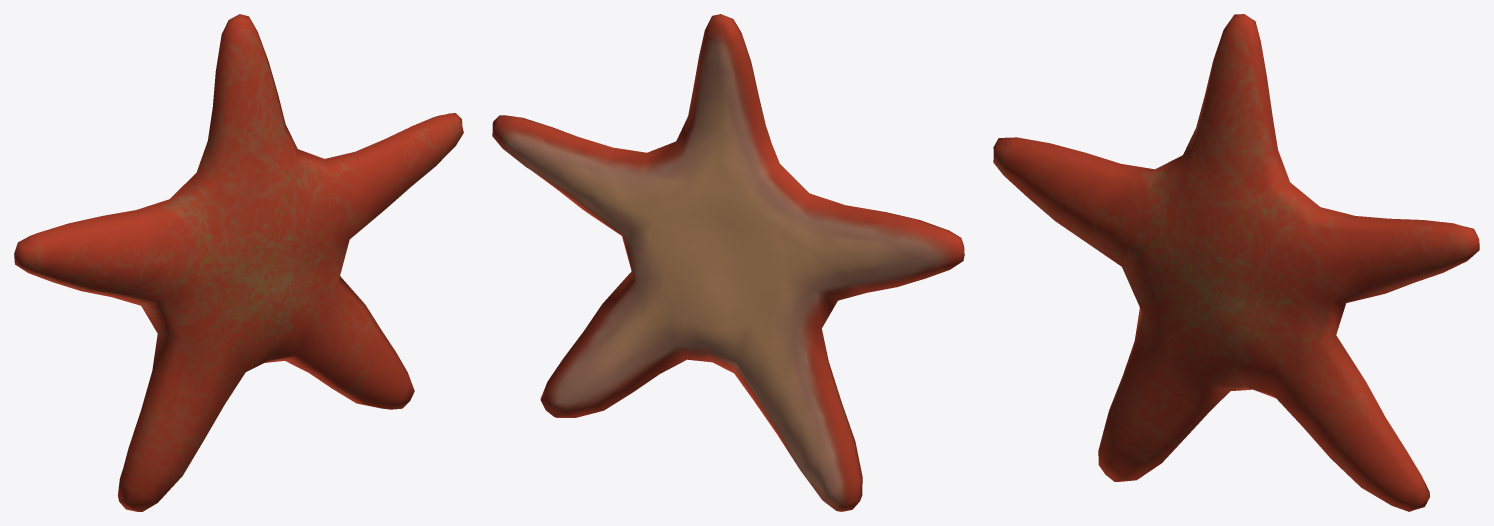
The model's file is lowPolyStarfish_edit_for_FBX.fbx.
3 renders of one model, left to right at view 1: azimuth 30°, elevation 25°; view 2: azimuth 150°, elevation 25°; view 3: azimuth 330°, elevation 25°, orthographic. The views are drawn at different scales.
Visible parts, largest first — view 1: lowPolyStarfish; view 2: lowPolyStarfish; view 3: lowPolyStarfish.
Part boxes in pixels (bbox=[...]): lowPolyStarfish: bbox=[14, 14, 463, 511]; lowPolyStarfish: bbox=[492, 14, 964, 511]; lowPolyStarfish: bbox=[993, 14, 1479, 511].
Bounding box in the file's own units: 20.78 × 20.32 × 2.7.
